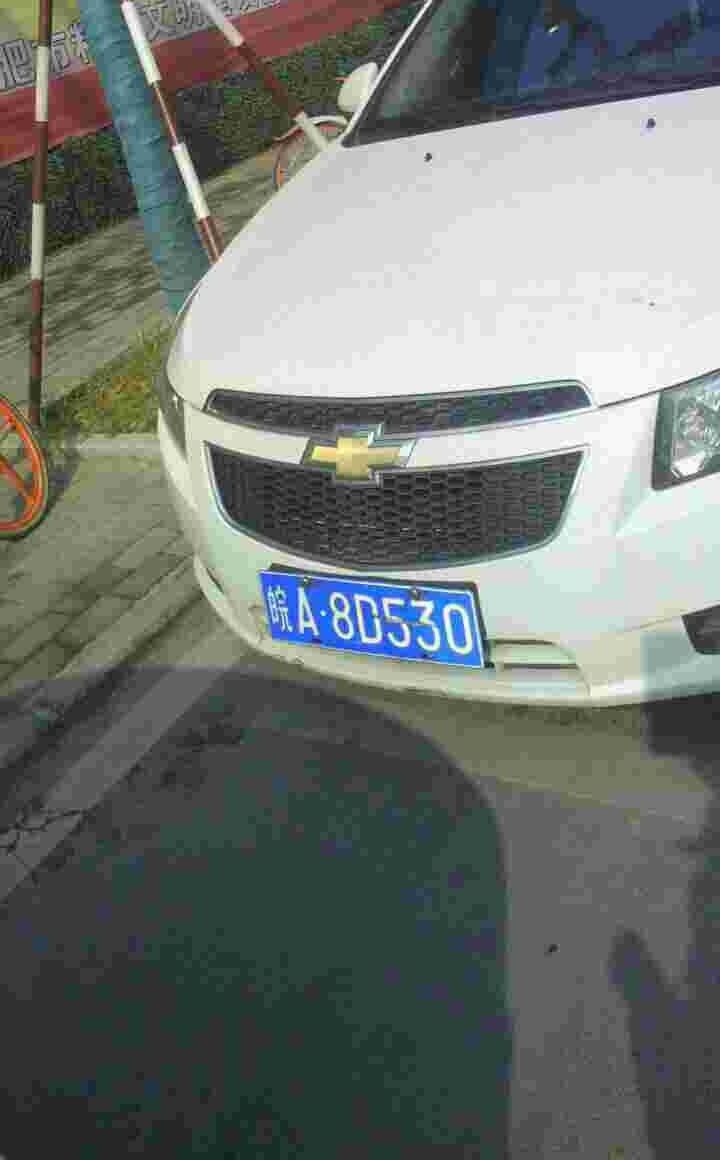car: (257, 575, 490, 663)
